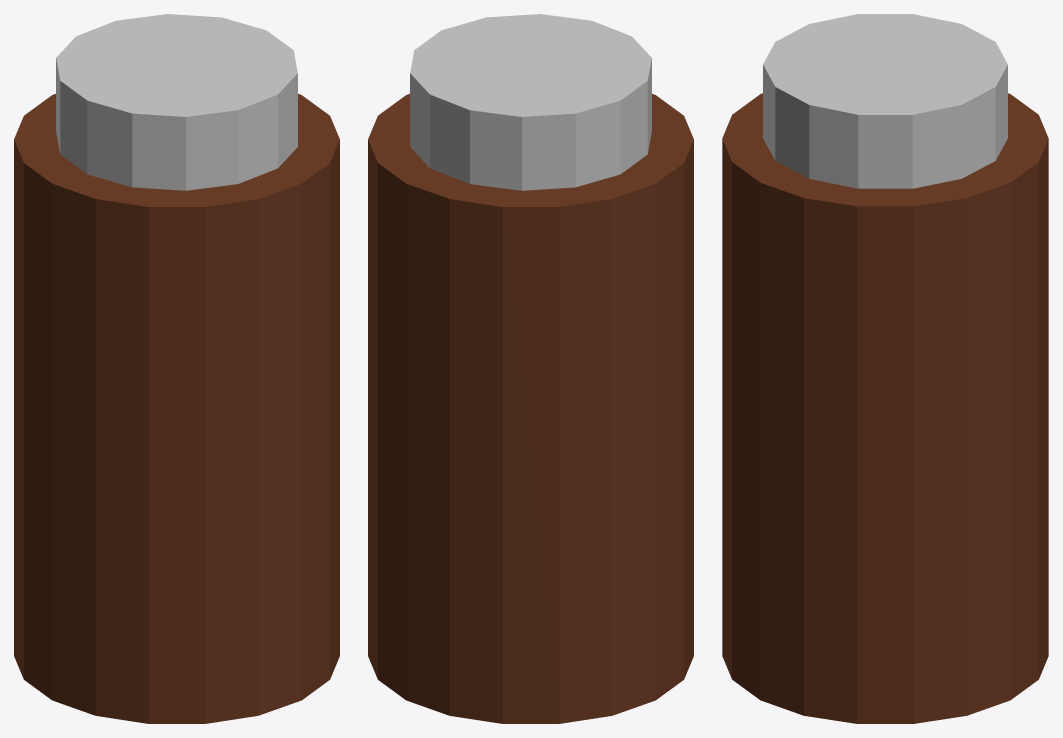
File: solid_fuel.obj
3 views of the same model, side by side, from view 1: azimuth 30°, elevation 25°; view 2: azimuth 150°, elevation 25°; view 3: azimuth 270°, elevation 25° (orthographic).
Parts seen in each view (by area): view 1: solid_fuel; view 2: solid_fuel; view 3: solid_fuel.
Boxes of the visible parts, x1,y1,x2,y2 form: solid_fuel: [14, 14, 339, 723]; solid_fuel: [368, 14, 693, 723]; solid_fuel: [722, 14, 1048, 723].
Size of the model in its own units: 0.1576 by 0.32 by 0.16.
